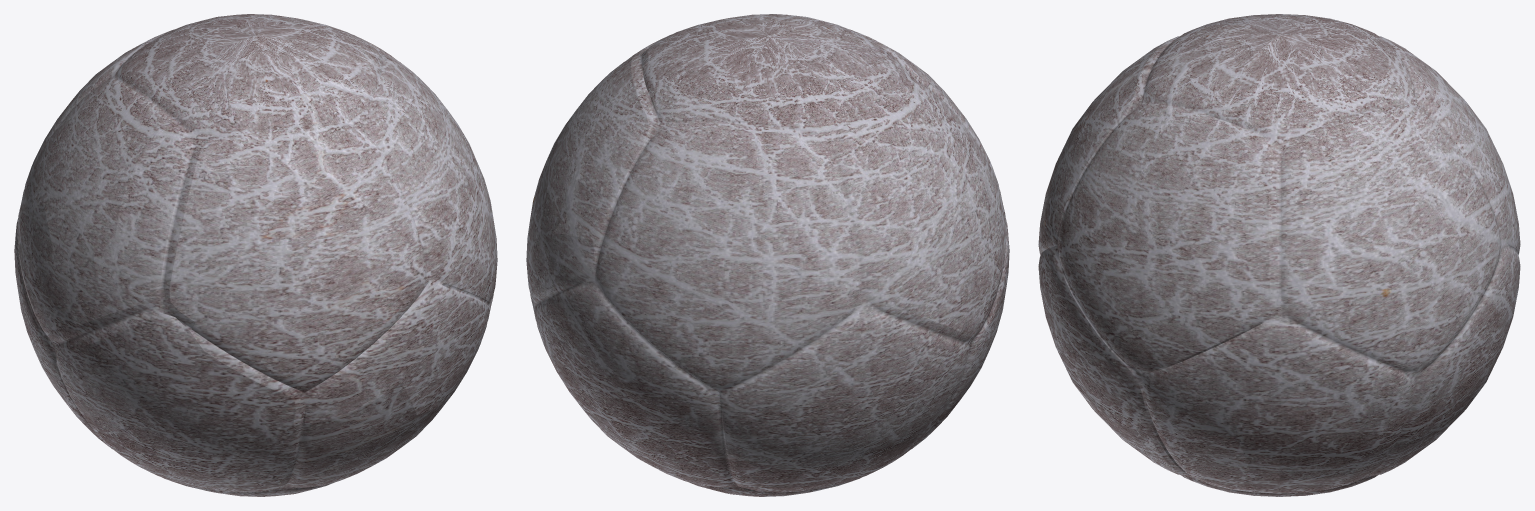
The model's file is ball.FBX.
The picture shows the model from 3 angles, left to right: view 1: azimuth 30°, elevation 25°; view 2: azimuth 150°, elevation 25°; view 3: azimuth 270°, elevation 25°; orthographic projection.
Visible parts, largest first — view 1: Geosphere1; view 2: Geosphere1; view 3: Geosphere1.
Part boxes in pixels (x1,y1,x2,y2): Geosphere1: (14, 14, 497, 496); Geosphere1: (526, 14, 1009, 496); Geosphere1: (1038, 14, 1520, 496).
Bounding box in the file's own units: 1.09 × 1.09 × 1.09.
Materials: 1 (1 with a texture image).
